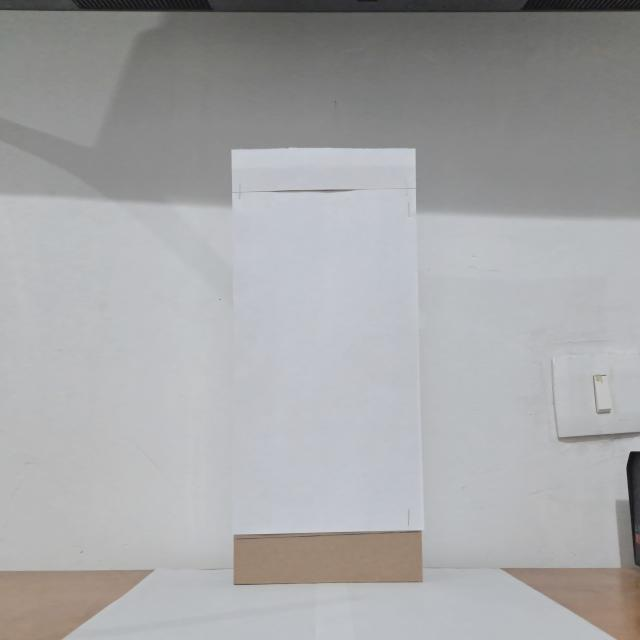wall: (223, 135, 429, 588)
